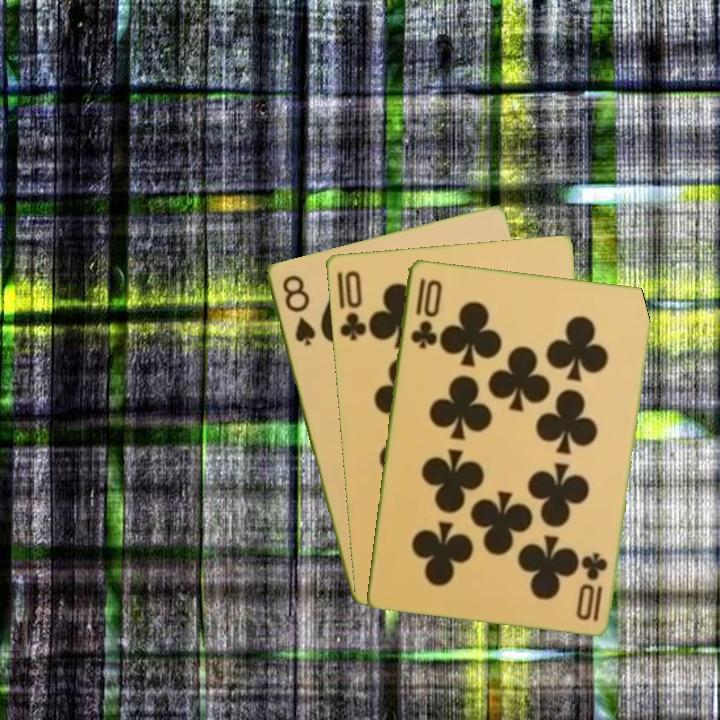10c: (407, 274, 444, 351), (335, 267, 369, 343), (581, 548, 610, 624)
8s: (278, 271, 318, 349)
